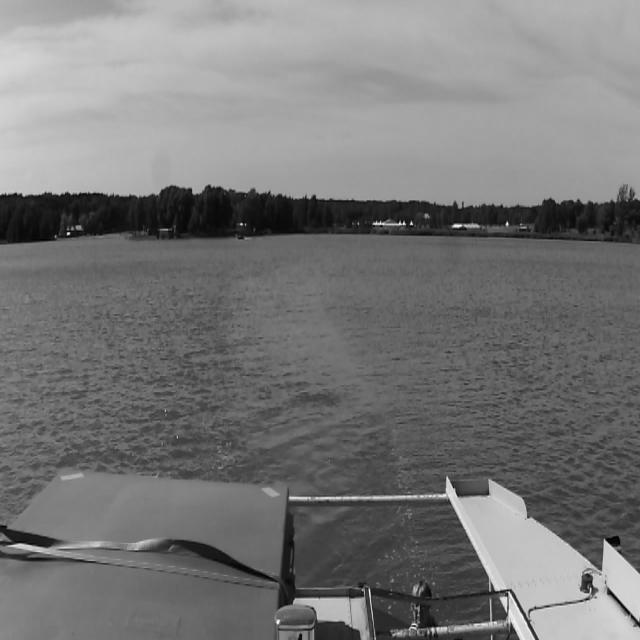ship: (57, 225, 83, 236)
